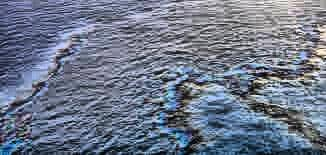rainbow: (161, 51, 326, 154), (0, 112, 25, 154)
